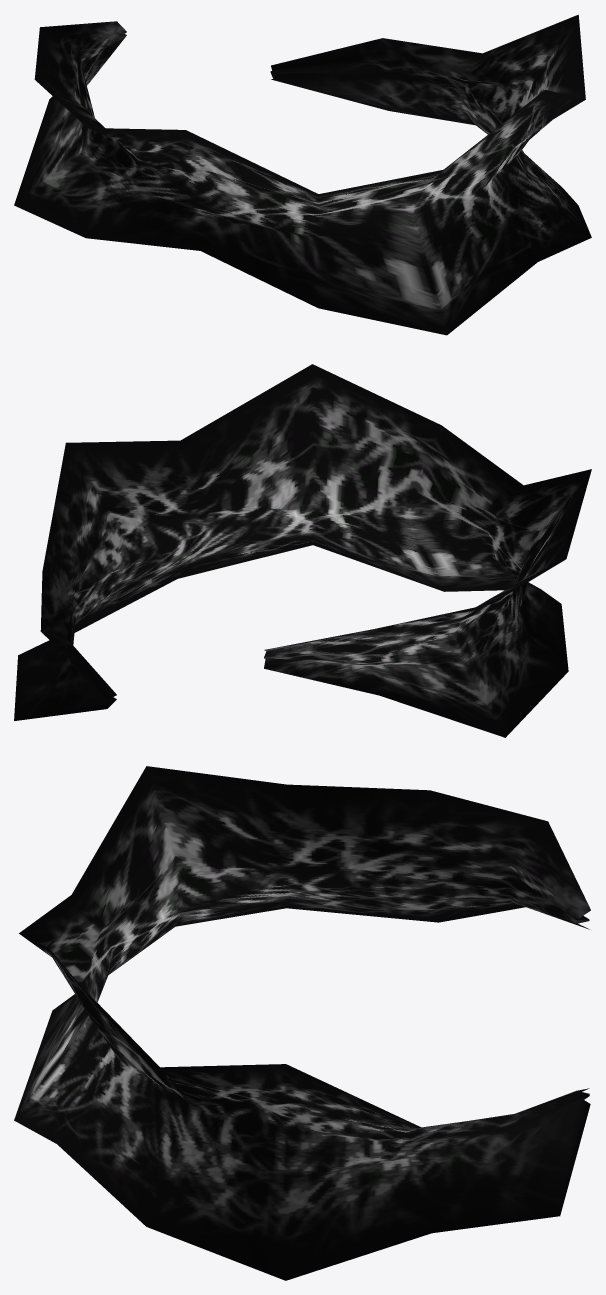
The model's file is penance_swirl_white.glb.
3 renders of one model, top to bottom at view 1: azimuth 30°, elevation 25°; view 2: azimuth 150°, elevation 25°; view 3: azimuth 270°, elevation 25°, orthographic. The views are drawn at different scales.
Visible parts, largest first — view 1: penance_swirl_white_0; view 2: penance_swirl_white_0; view 3: penance_swirl_white_0.
Part boxes in pixels (x1,y1,x2,y2): penance_swirl_white_0: [14, 14, 591, 335]; penance_swirl_white_0: [14, 364, 591, 737]; penance_swirl_white_0: [14, 766, 590, 1280].
Size of the model in its own units: 162 by 72.01 by 144.
1 material, 1 textured.
